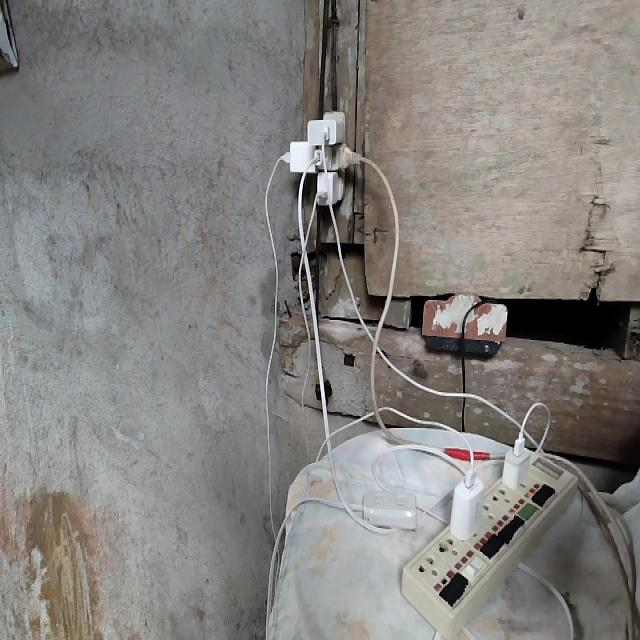-: (278, 104, 362, 208)
